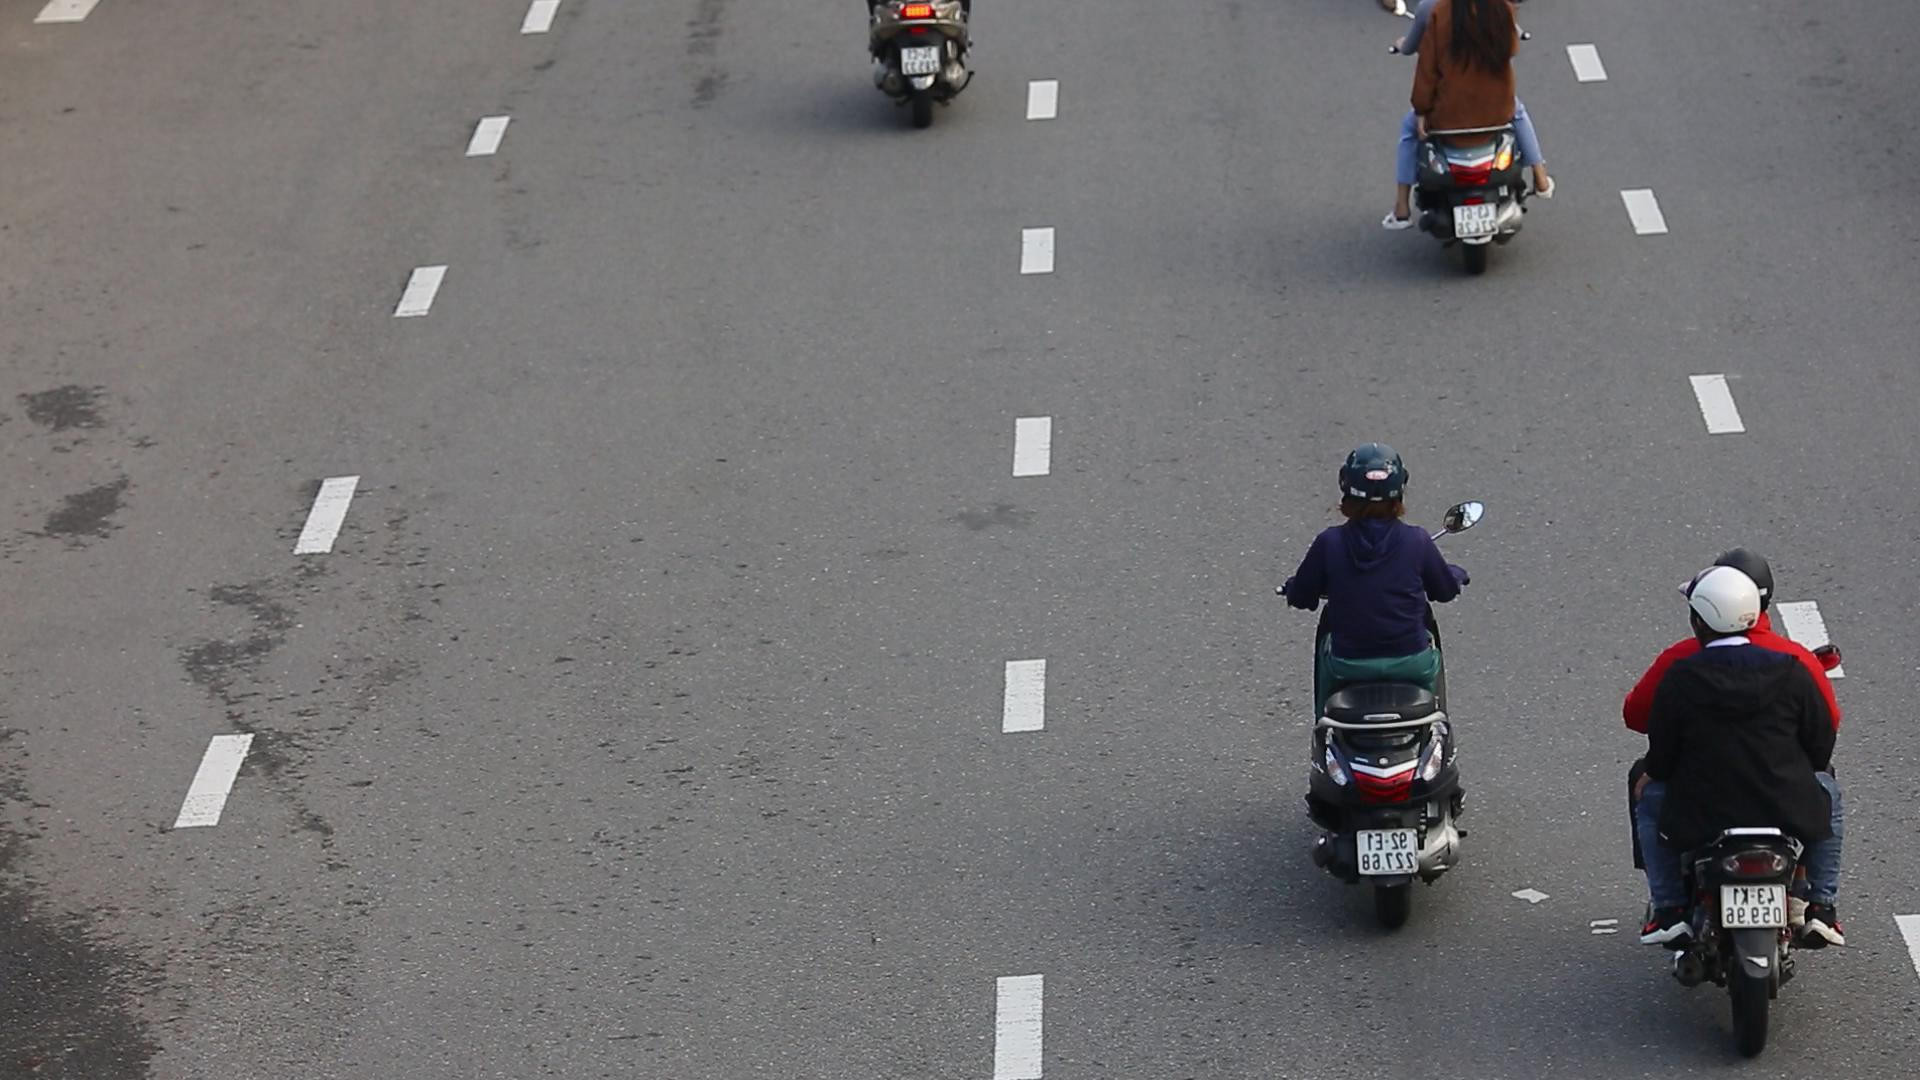motobike: (1605, 538, 1851, 1038), (1284, 434, 1493, 930)
